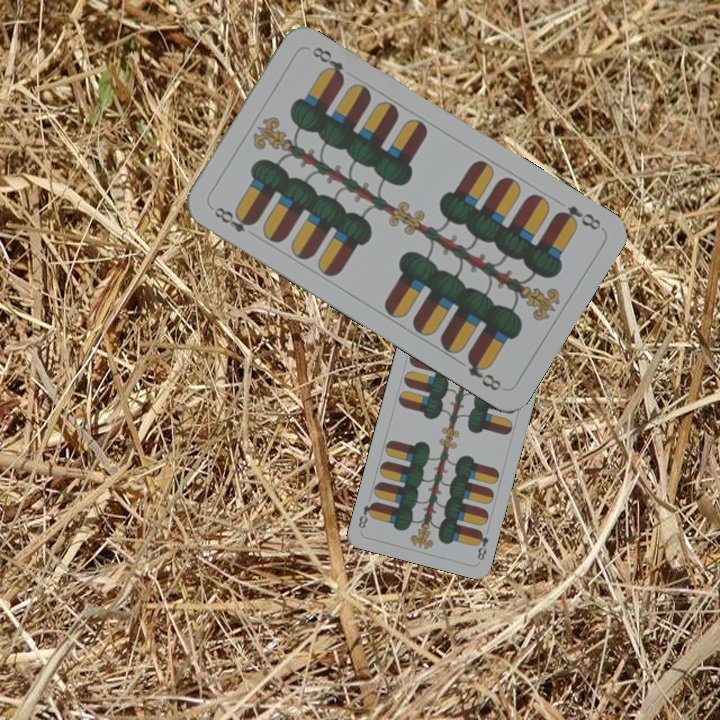E8: (206, 202, 258, 236), (551, 201, 604, 233), (472, 527, 491, 563)
